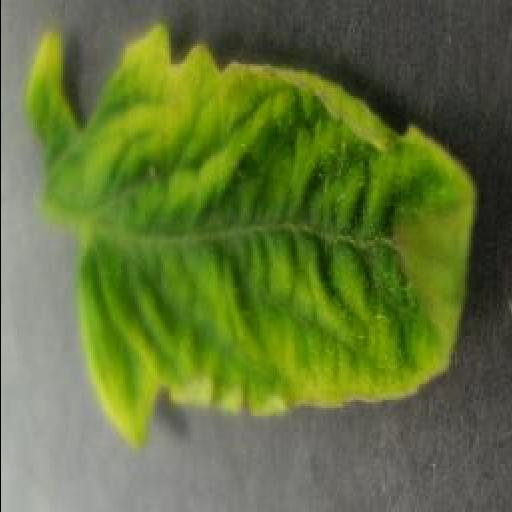disease_tomato: (21, 24, 475, 448)
